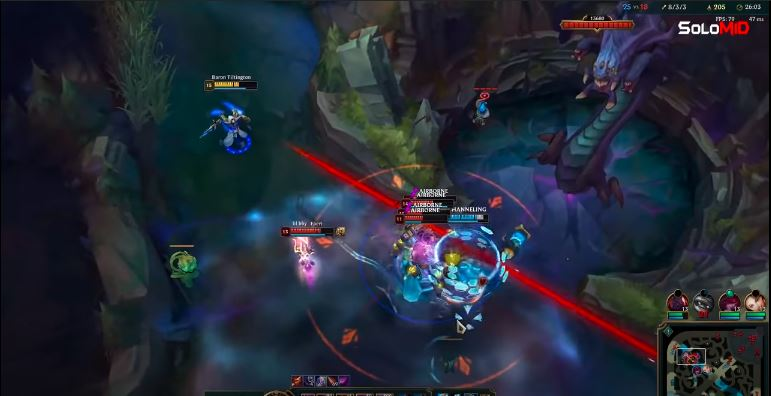bar: (279, 225, 338, 240), (202, 77, 262, 91), (396, 208, 453, 221), (432, 213, 490, 224), (394, 214, 450, 225), (403, 194, 459, 205), (402, 200, 457, 211)
